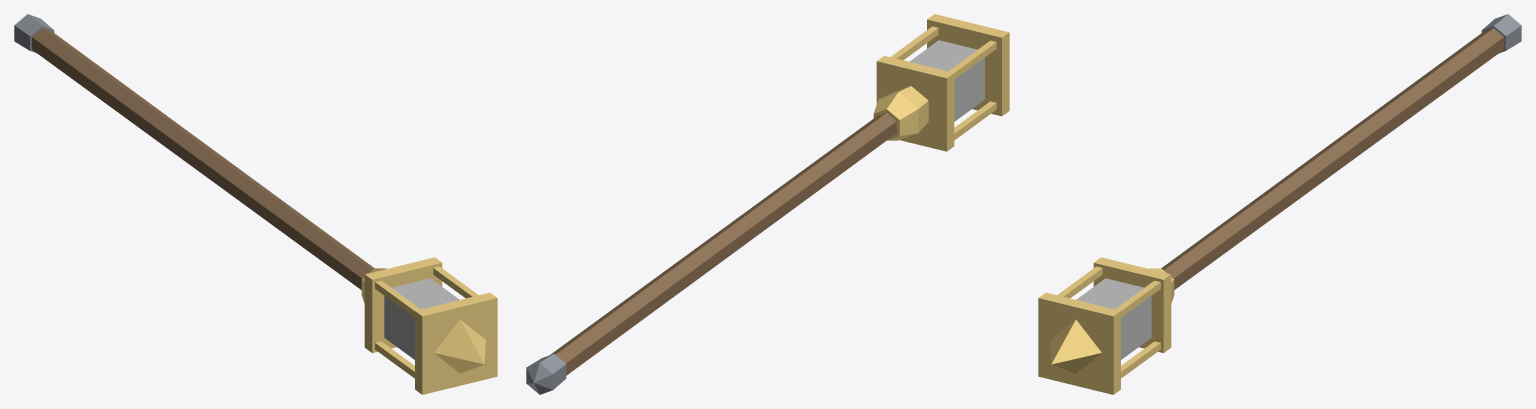
File: lanternstaff.glb
The picture shows the model from 3 angles, left to right: view 1: azimuth 30°, elevation 25°; view 2: azimuth 150°, elevation 25°; view 3: azimuth 330°, elevation 25°; orthographic projection.
Parts seen in each view (by area): view 1: lanternstaff; view 2: lanternstaff; view 3: lanternstaff.
Boxes of the visible parts, x1,y1,x2,y2 form: lanternstaff: (14, 14, 497, 394); lanternstaff: (526, 14, 1009, 394); lanternstaff: (1038, 14, 1521, 394).
Size of the model in its own units: 0.15 by 0.15 by 1.6.
